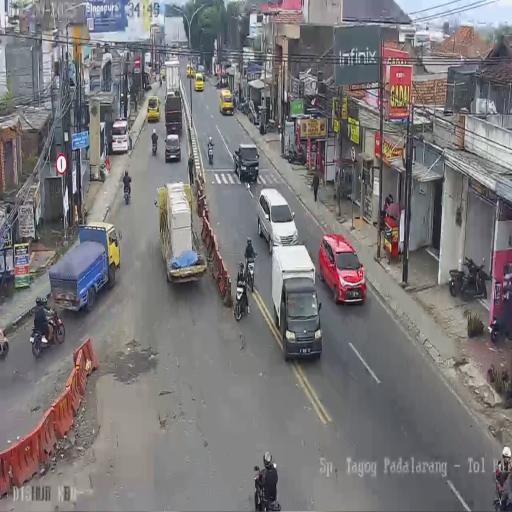car: (320, 232, 367, 304), (281, 279, 322, 361), (256, 187, 296, 252), (232, 142, 259, 183), (111, 117, 130, 155), (165, 132, 181, 162), (219, 89, 234, 115), (147, 96, 160, 122), (194, 73, 204, 91), (186, 65, 194, 78)
motorcycle: (449, 254, 489, 302), (30, 306, 66, 357), (234, 273, 249, 321), (245, 252, 257, 293), (286, 142, 306, 165), (0, 333, 9, 360), (207, 142, 214, 164), (241, 98, 249, 116), (124, 182, 130, 204), (152, 136, 158, 156), (216, 78, 221, 89), (159, 75, 163, 86)
truck: (48, 223, 119, 313), (158, 182, 207, 284), (164, 90, 182, 137), (144, 51, 152, 80)
